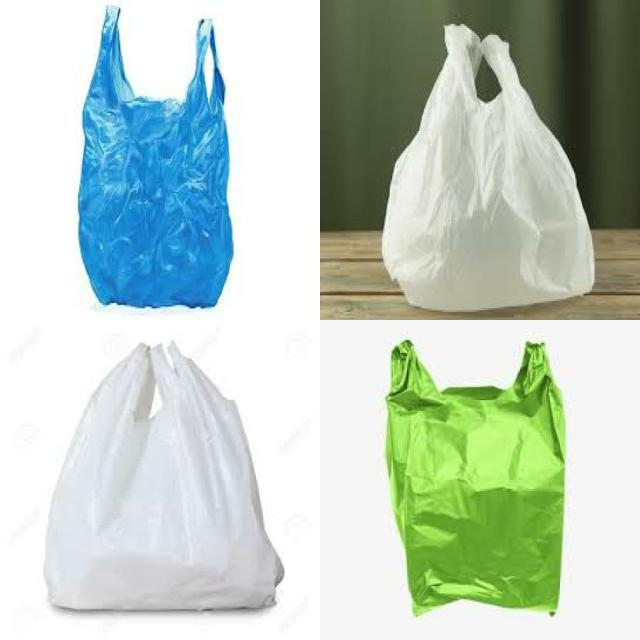Single-layer Plastic: (45, 342, 284, 609), (382, 25, 594, 311), (386, 341, 565, 614), (79, 6, 232, 308)
